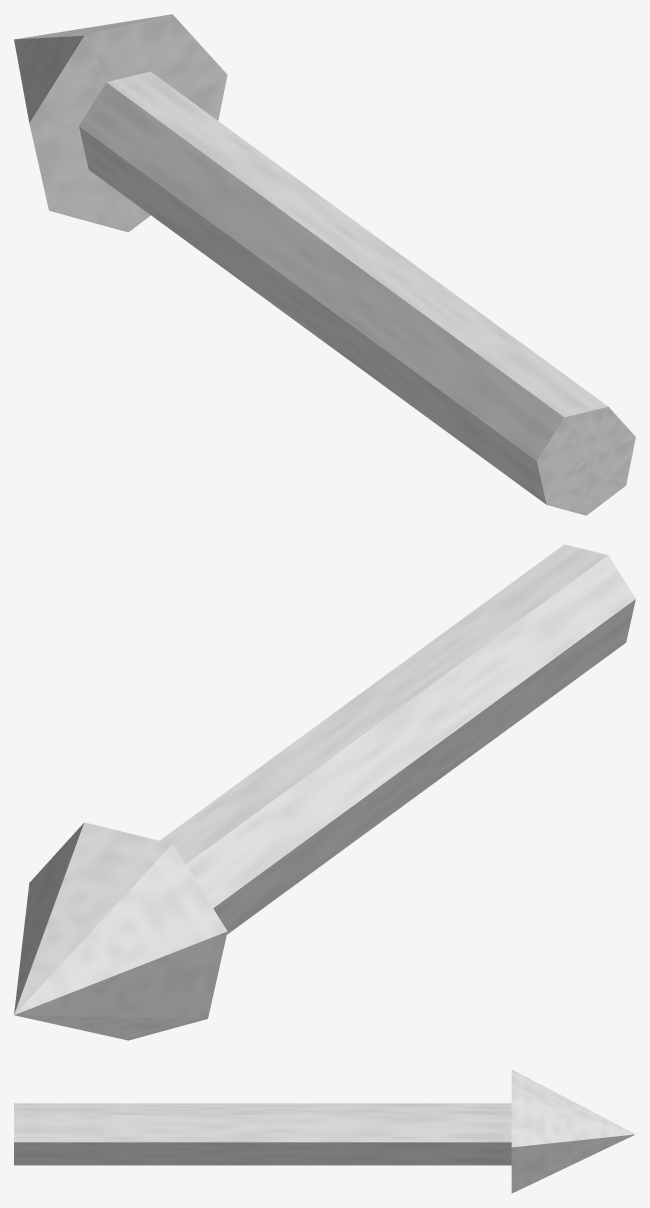
The model's file is arrow.obj.
3 views of the same model, one above another, from view 1: azimuth 30°, elevation 25°; view 2: azimuth 150°, elevation 25°; view 3: azimuth 270°, elevation 25° (orthographic). The views are drawn at different scales.
Visible parts, largest first — view 1: cylinder, cone; view 2: cylinder, cone; view 3: cylinder, cone.
Part boxes in pixels (left/top/right/bottom): cylinder: left=79, top=71, right=635, bottom=515; cone: left=14, top=14, right=227, bottom=232; cylinder: left=160, top=544, right=635, bottom=934; cone: left=14, top=822, right=227, bottom=1040; cylinder: left=14, top=1103, right=511, bottom=1165; cone: left=511, top=1069, right=635, bottom=1193.
Size of the model in its own units: 0.25 by 0.25 by 1.25.
